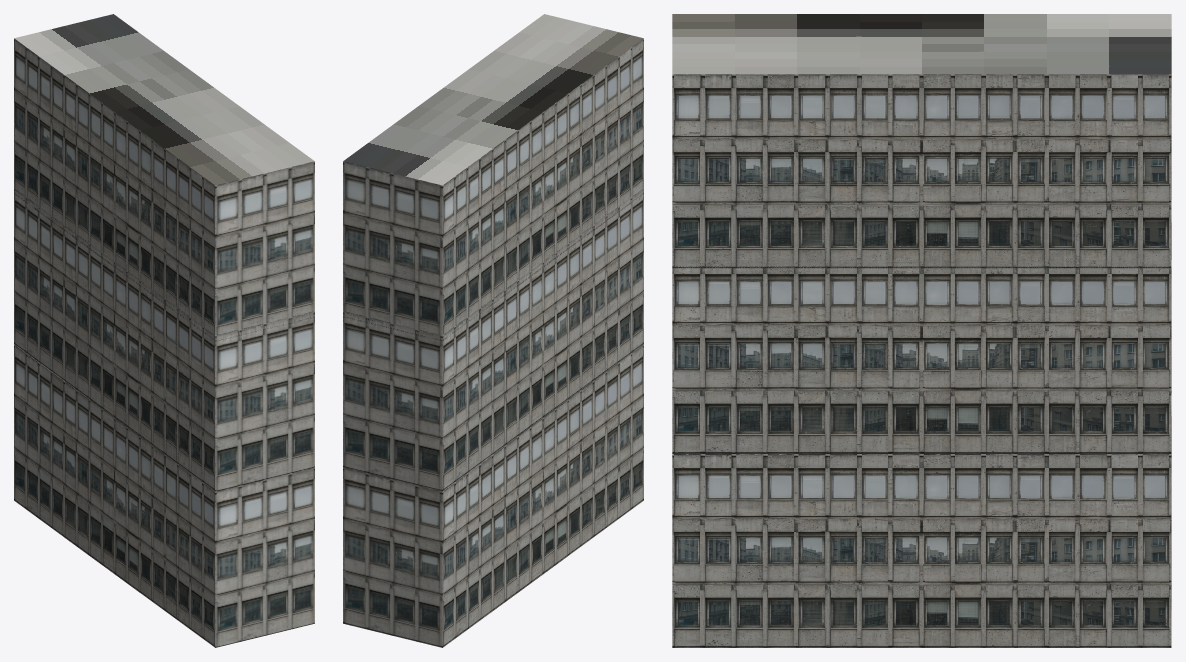
Rendered from office_02.gltf.
3 renders of one model, left to right at view 1: azimuth 30°, elevation 25°; view 2: azimuth 150°, elevation 25°; view 3: azimuth 270°, elevation 25°, orthographic. The views are drawn at different scales.
Parts seen in each view (by area): view 1: mesh (×3); view 2: mesh (×3); view 3: mesh (×3).
Part boxes in pixels (x1,y1,x2,y2): mesh (×3): [14, 14, 314, 647]; mesh (×3): [343, 14, 643, 647]; mesh (×3): [672, 14, 1171, 647].
Bounding box in the file's own units: 1 × 4.44 × 3.5.
Materials: 1 (1 with a texture image).
